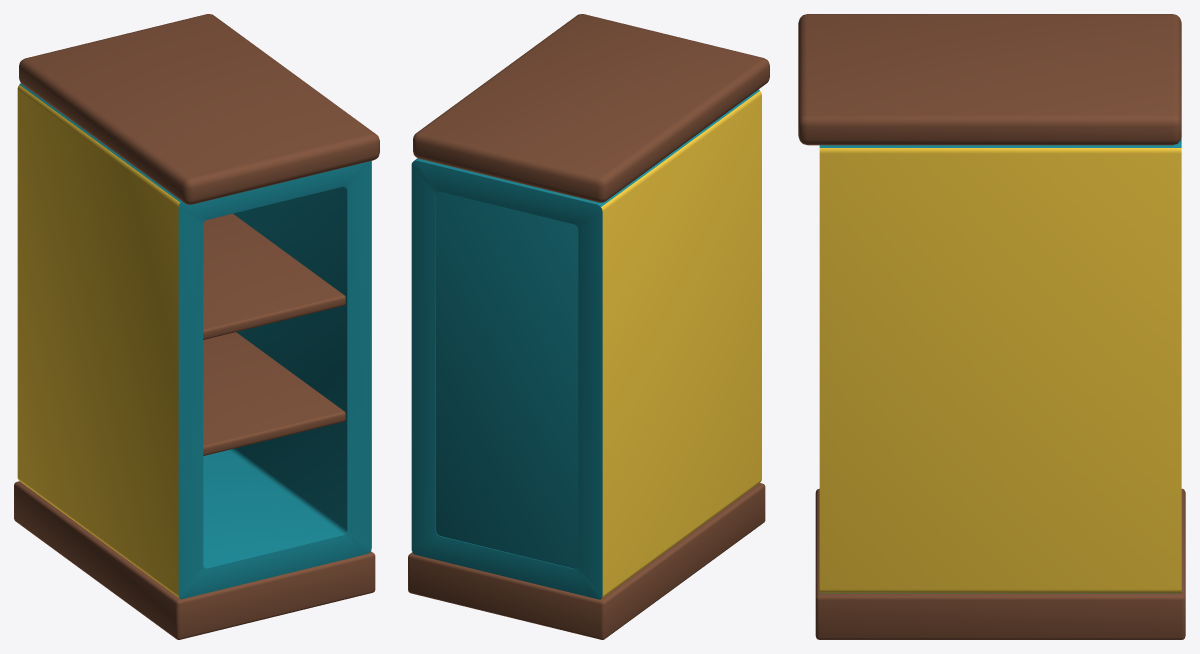
File: nicho_cozinha_colonial.glb
3 renders of one model, left to right at view 1: azimuth 30°, elevation 25°; view 2: azimuth 150°, elevation 25°; view 3: azimuth 270°, elevation 25°, orthographic. The views are drawn at different scales.
Visible parts, largest first — view 1: nicho_cozinha_colonial; view 2: nicho_cozinha_colonial; view 3: nicho_cozinha_colonial.
Boxes of the visible parts, x1,y1,x2,y2 form: nicho_cozinha_colonial: (14, 14, 379, 639); nicho_cozinha_colonial: (408, 14, 769, 639); nicho_cozinha_colonial: (798, 14, 1185, 639).
Size of the model in its own units: 0.404 by 0.9 by 0.605.
1 material, 1 textured.
